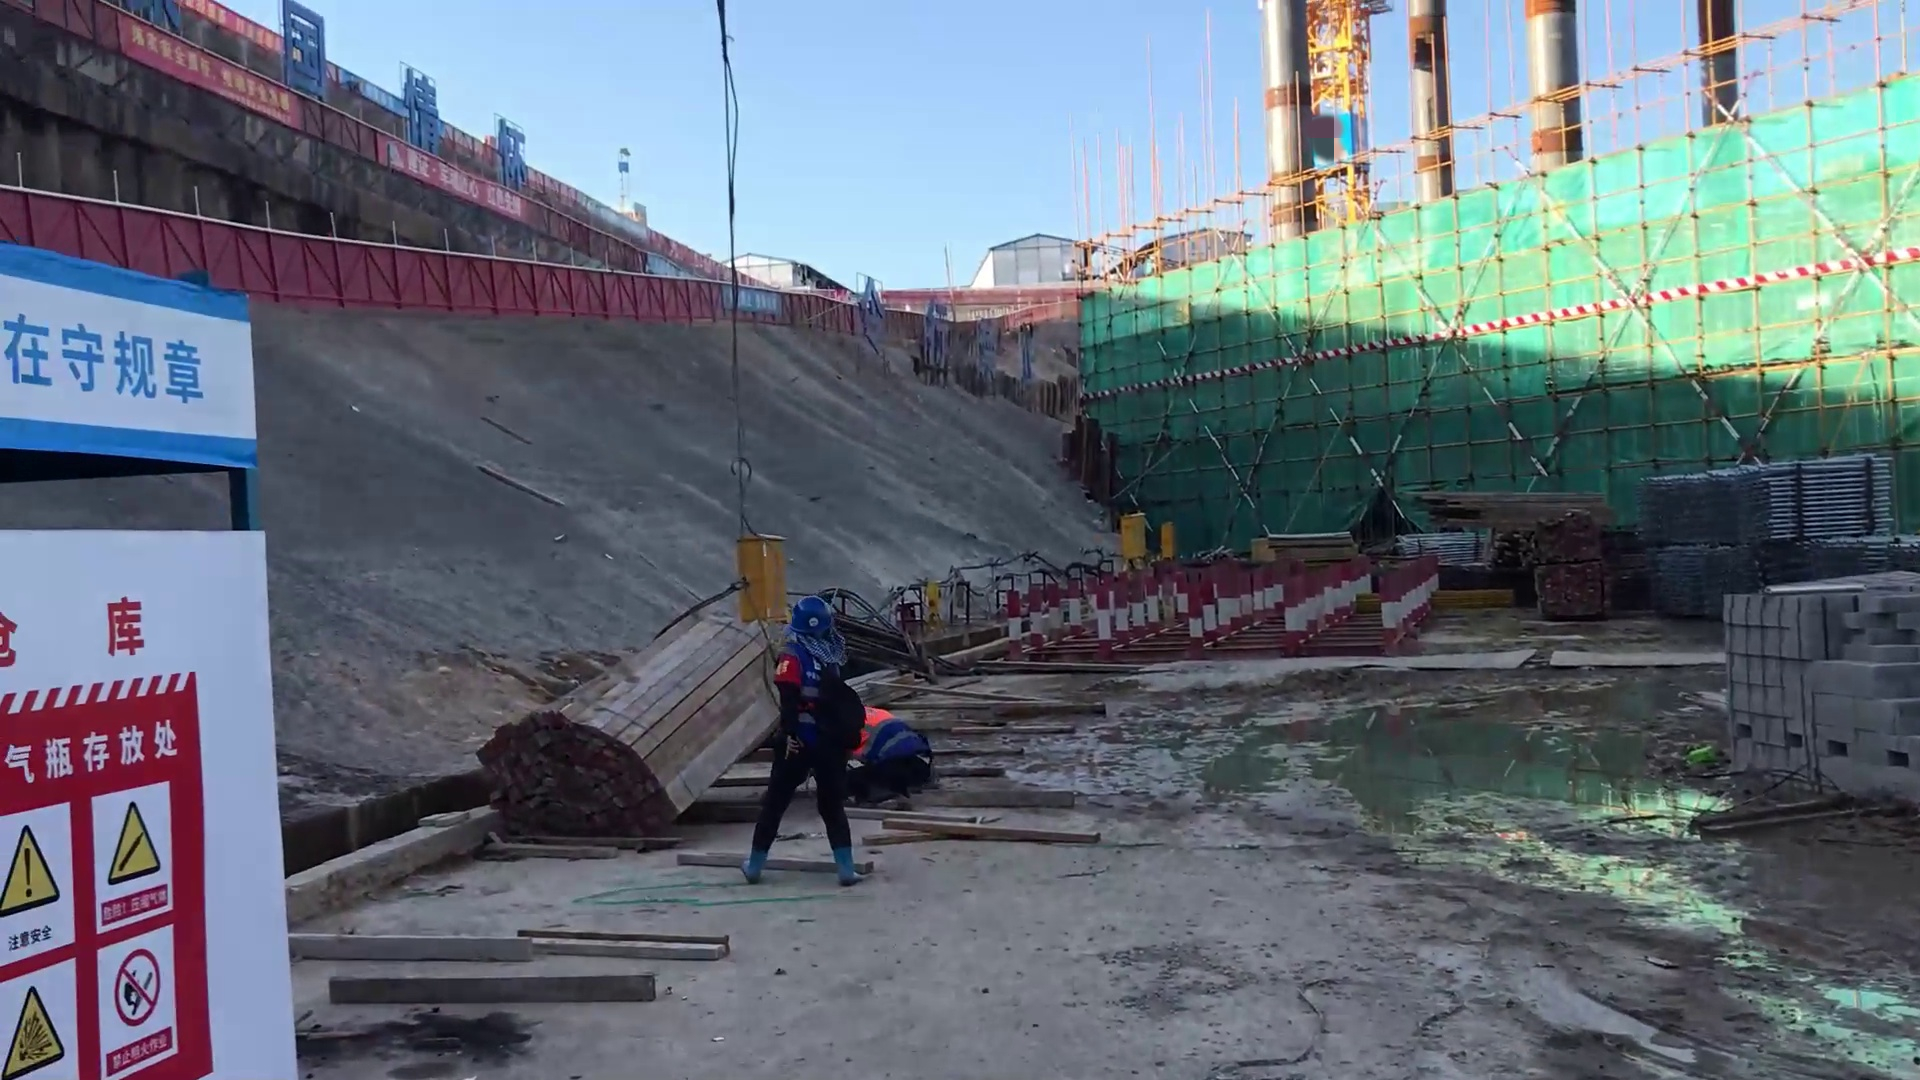brick: (1706, 571, 1920, 802)
ebox: (723, 515, 811, 630), (1116, 504, 1150, 560), (1158, 519, 1174, 564)
fence: (200, 215, 582, 323), (578, 270, 740, 324)
helmet: (785, 601, 856, 663)
person: (742, 584, 871, 893)
scaffold: (1630, 439, 1870, 550)
slogan: (1, 734, 199, 1065), (1, 276, 222, 441), (89, 27, 328, 141)
wood: (474, 611, 730, 849), (1408, 479, 1604, 548)
